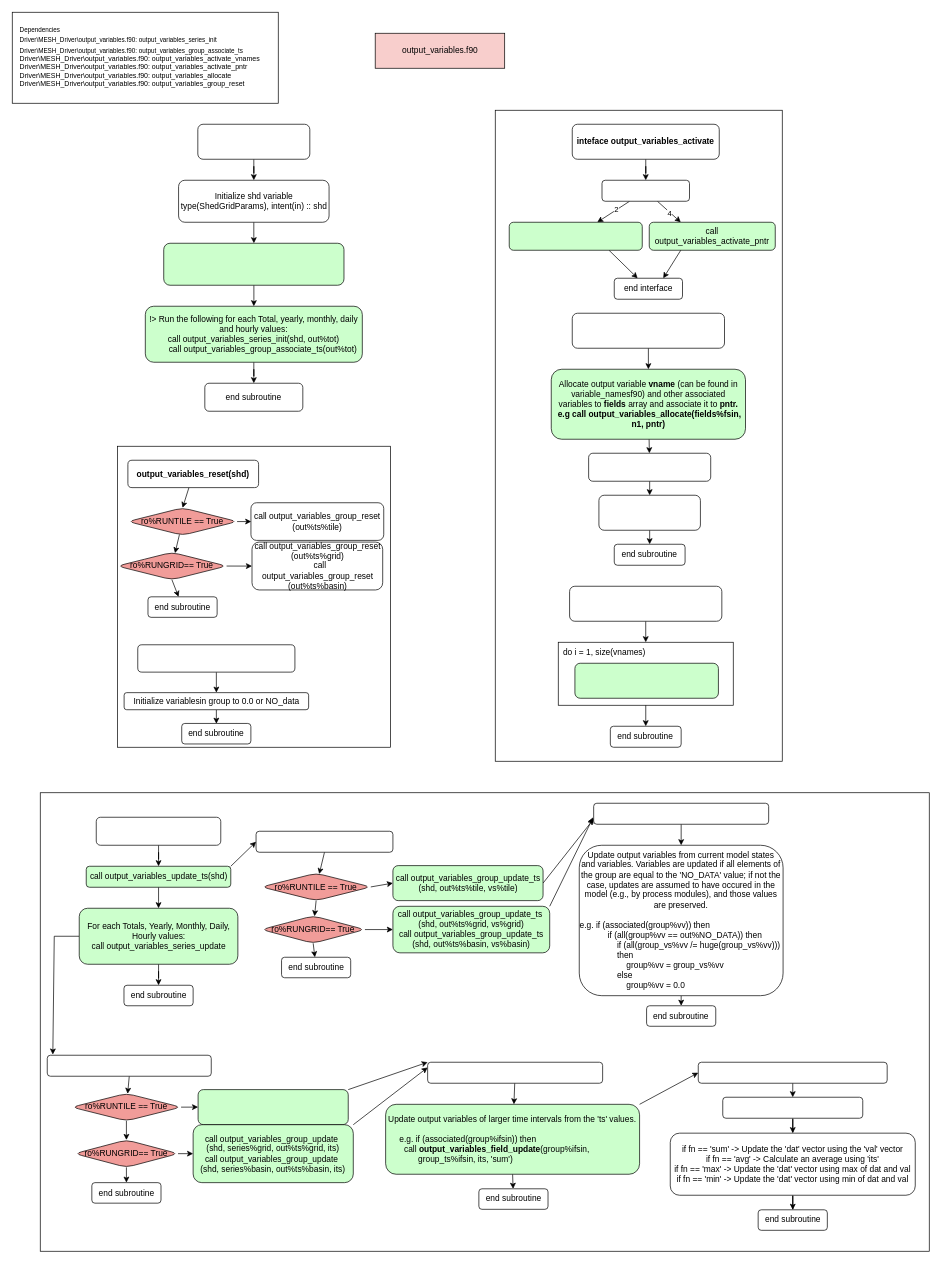
The diagram is 942 pixels wide and 1264 high, and some of its shapes have lost their labels. The centre of each missing label's shape, as x and y in pixels:
!> Initialize 'ts' values call output_variables_series_init(shd, out%ts): (253,264)
Assign 'NO_DATA' to pntr is pointer not assigned: (649,512)
call output_variables_activate_pntr (fields, vnames(i)): (646,680)
call output_variables_activate_vnames: (575,236)
call output_variables_group_update (shd, series%tile, out%ts%tile, its): (272,1107)
Number of arguments passed: (645,190)
output_variables_activate_pntr (fields, vname, pntr, ig): (648,330)
output_variables_activate_vnames (fields, vnames): (645,603)
output_variables_field_update(dat, val, its, fn): (792,1072)
output_variables_group_reset(group): (216,658)
output_variables_group_update(shd, group, group_vs): (515,1072)
output_variables_group_update_ts(shd, group, group_vs): (681,813)
output_variables_init(shd): (253,141)
output_variables_series_update(shd, series, its): (129,1065)
output_variables_update(shd): (158,831)
output_variables_update_ts(shd): (324,841)
Recurse on certain vname e.g. VN_STGW, etc.: (649,467)
Reset dat if it is the first time-step: (792,1107)
